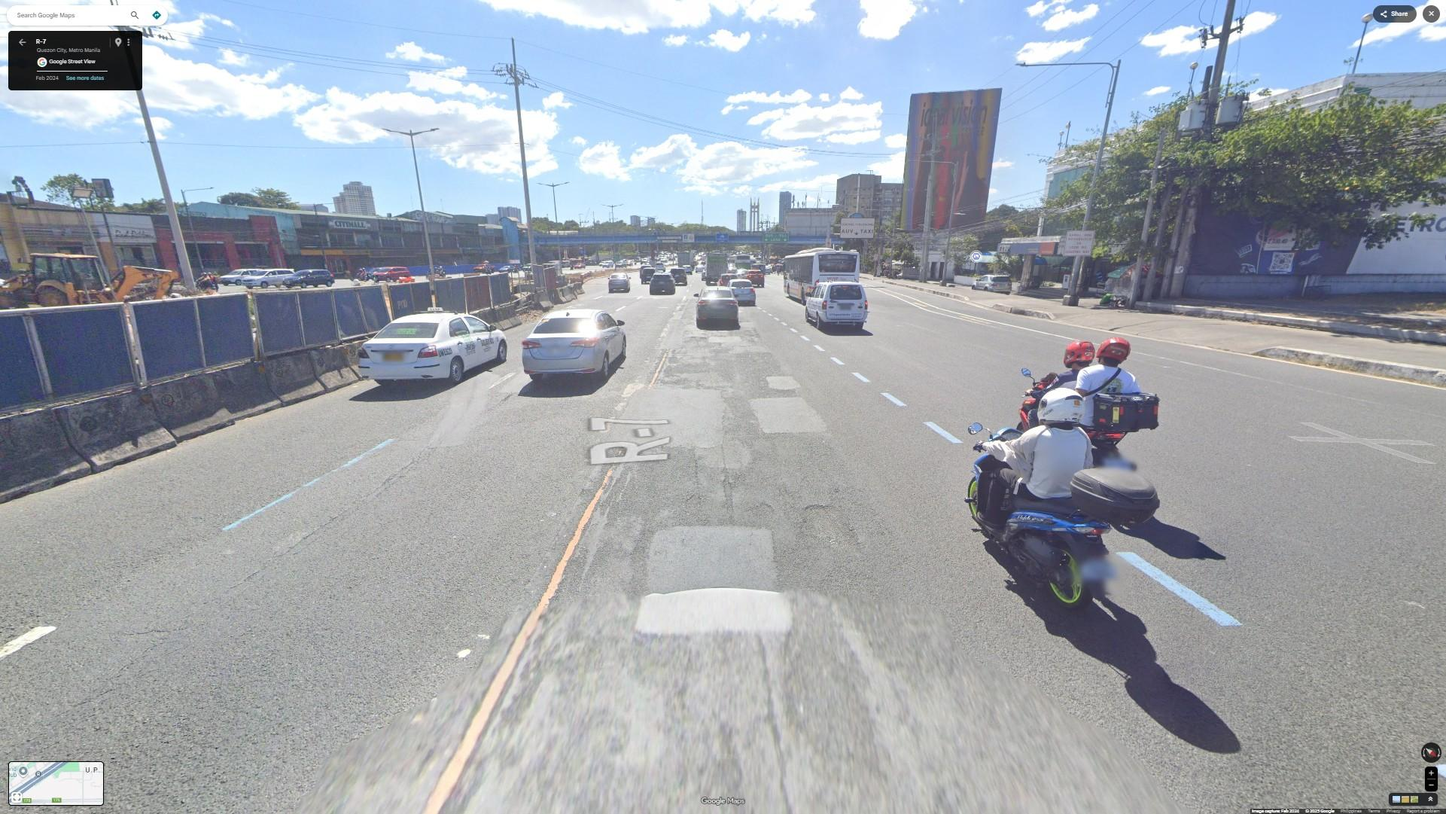pedestrian: (776, 264, 780, 276), (779, 264, 783, 275), (774, 264, 778, 274), (772, 264, 775, 274), (782, 264, 785, 274)
